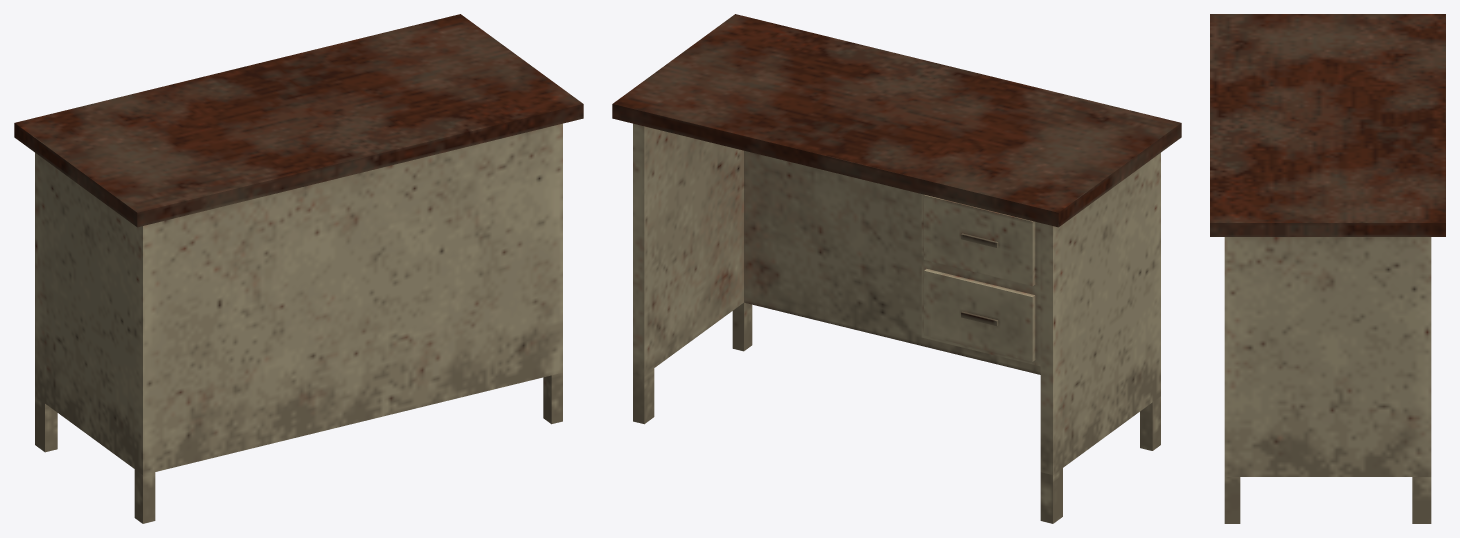
The model's file is desk.fbx.
3 renders of one model, left to right at view 1: azimuth 30°, elevation 25°; view 2: azimuth 150°, elevation 25°; view 3: azimuth 270°, elevation 25°, orthographic. The views are drawn at different scales.
Parts seen in each view (by area): view 1: desk; view 2: desk; view 3: desk.
Boxes of the visible parts, left/top/right/bottom form: desk: left=14, top=14, right=583, bottom=523; desk: left=612, top=14, right=1181, bottom=523; desk: left=1210, top=14, right=1445, bottom=523.
Bounding box in the file's own units: 118 × 80.75 × 56.22.
Materials: 1 (1 with a texture image).
